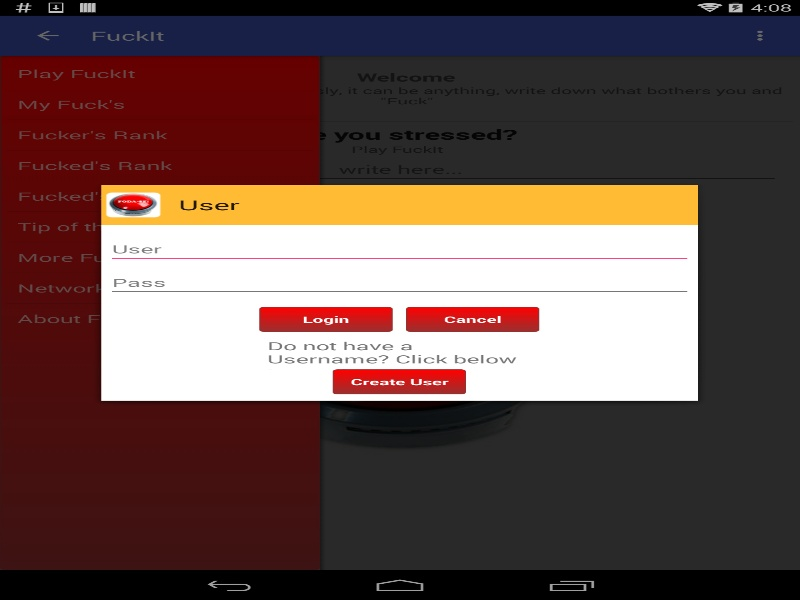Button: (405, 306, 539, 331), (332, 369, 466, 394), (259, 306, 392, 331)
Input: (106, 235, 692, 263), (106, 268, 692, 296)
